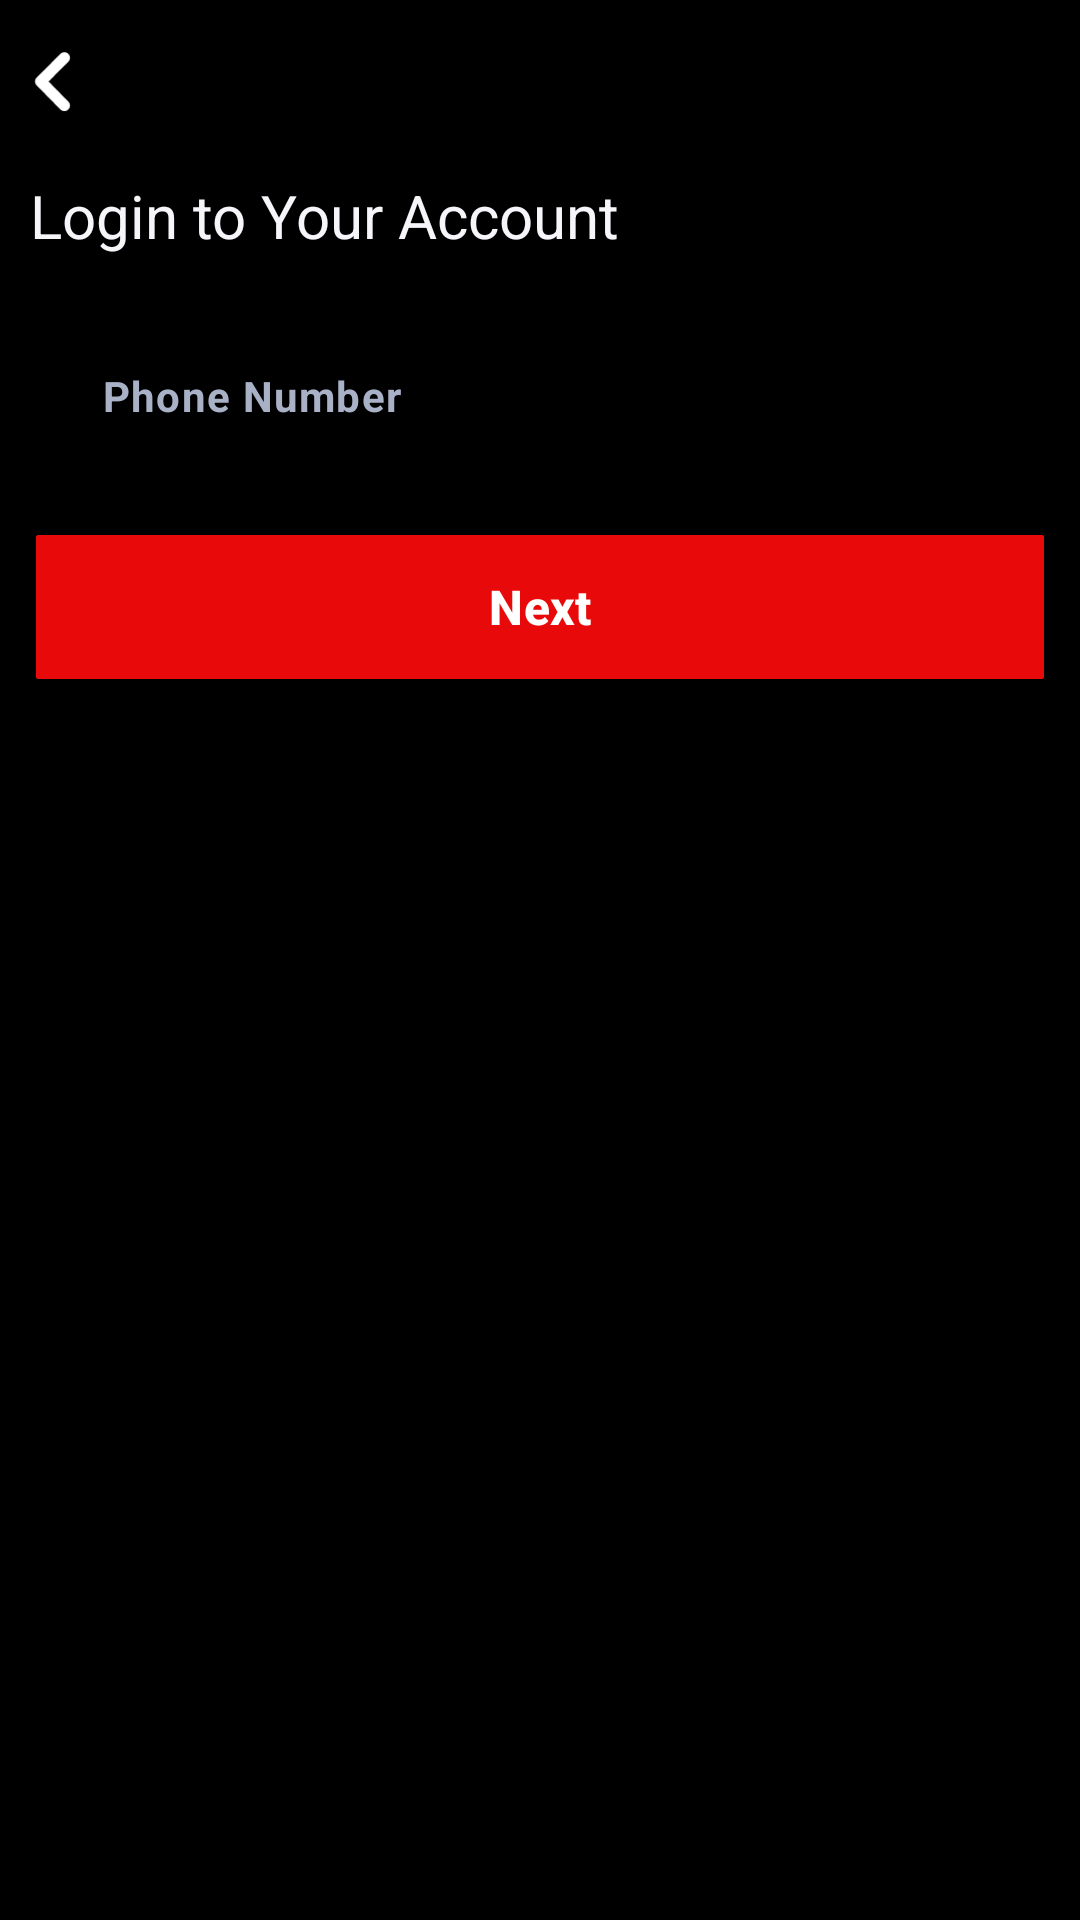

Where to tap for icons on this 1080*1920 app screen, as point (x, y):
left arrow: point (52, 81)
